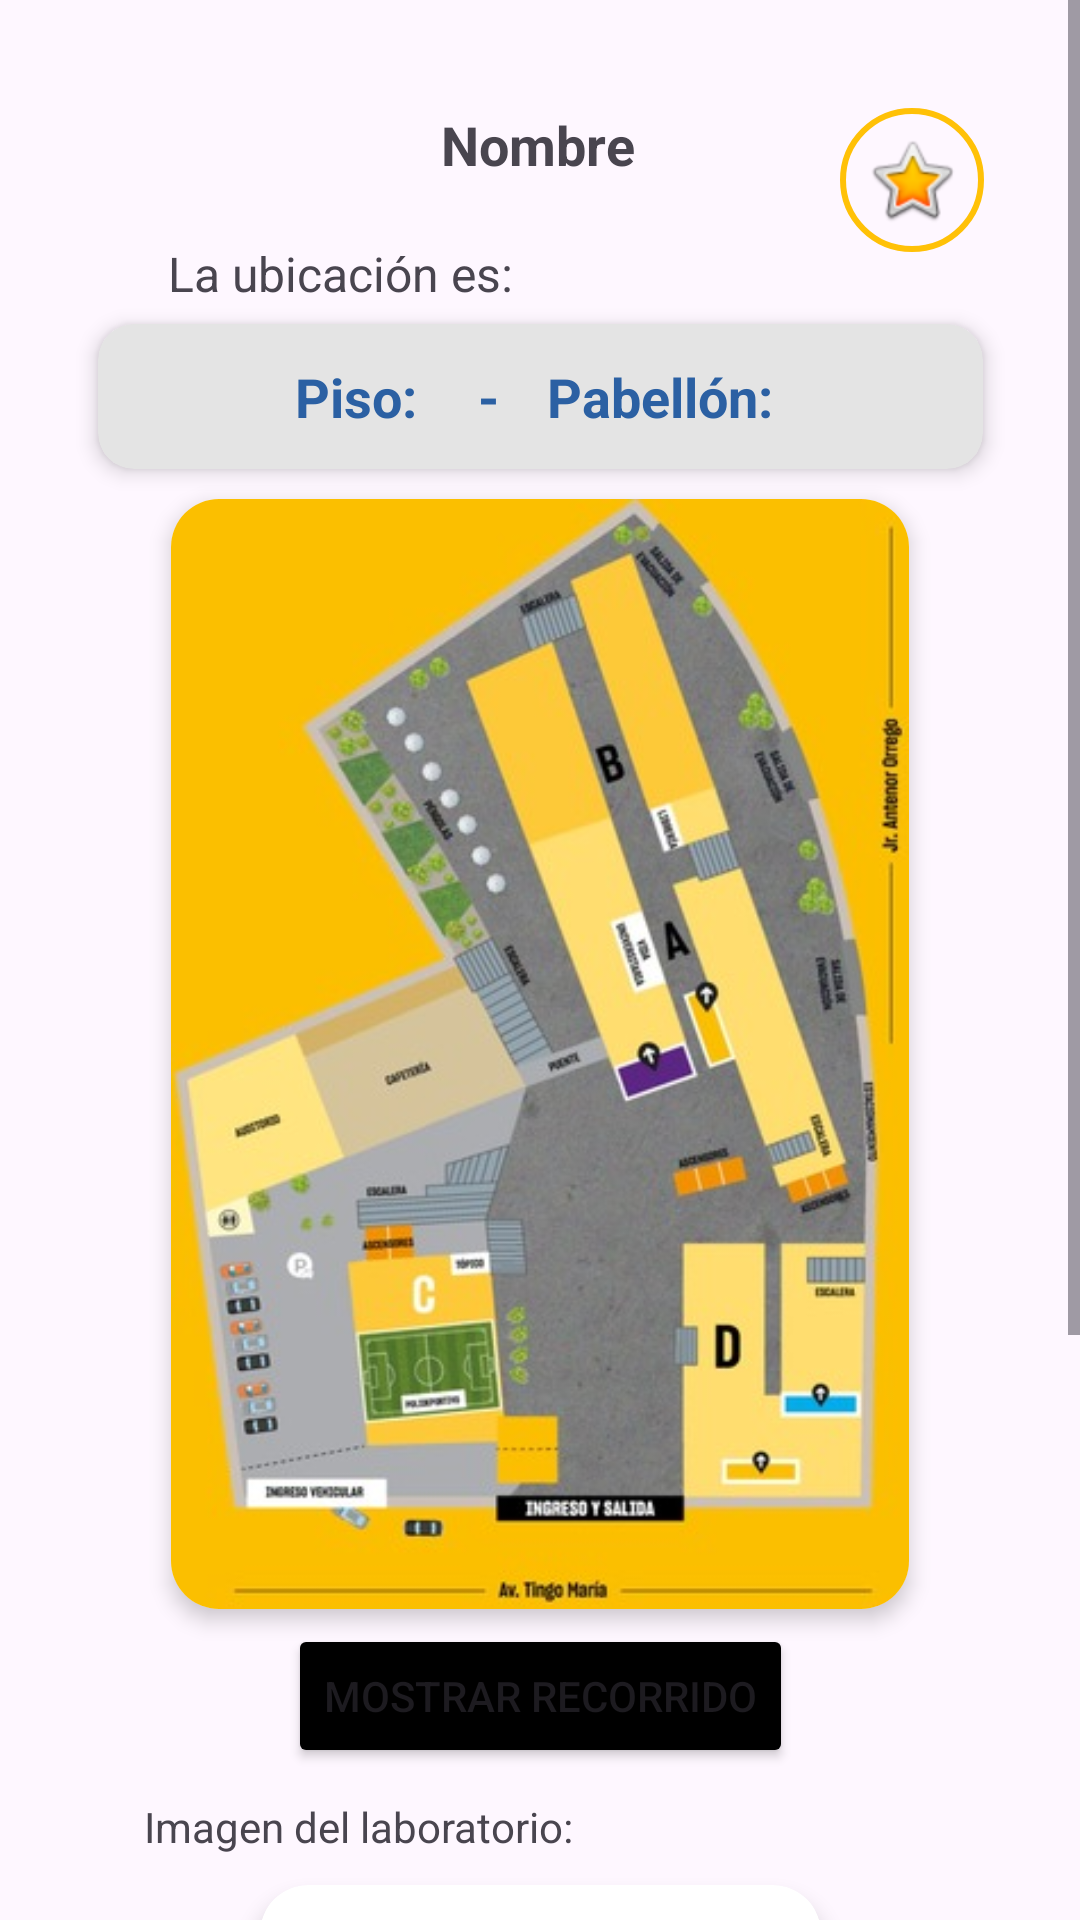

Where to tap for icons on this 1080 × 1920 app screen, as [x,y]:
Favoritos Button: [912,180]
